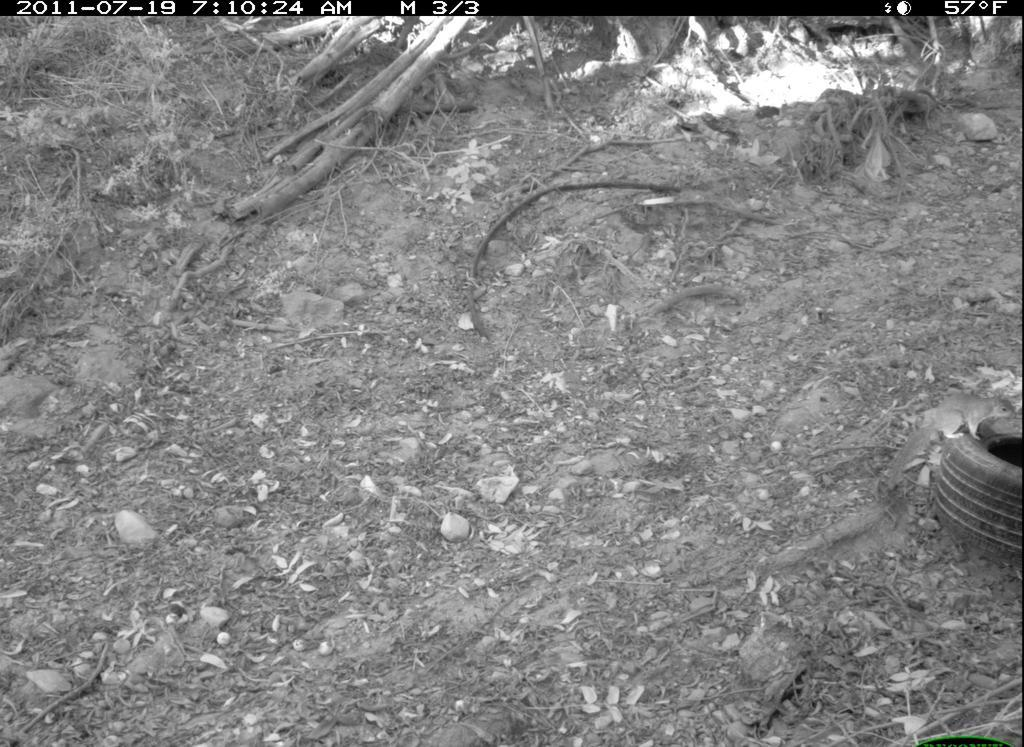squirrel: (881, 379, 1016, 495)
